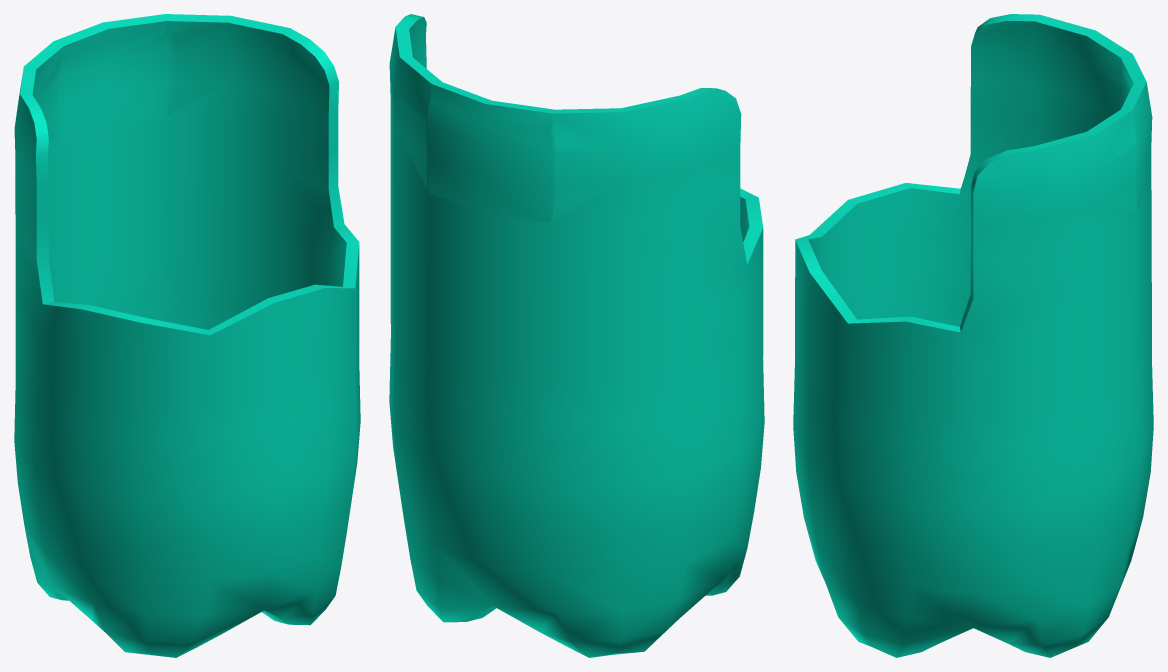
3 renders of one model, left to right at view 1: azimuth 30°, elevation 25°; view 2: azimuth 150°, elevation 25°; view 3: azimuth 270°, elevation 25°, orthographic. The views are drawn at different scales.
Parts seen in each view (by area): view 1: New Water Bottle 02 Mobile Stand, 02 Cut Area; view 2: New Water Bottle 02 Mobile Stand, 02 Cut Area; view 3: New Water Bottle 02 Mobile Stand, 02 Cut Area.
Part boxes in pixels (x1,y1,x2,y2): New Water Bottle 02 Mobile Stand: (14,14,360,657); 02 Cut Area: (55,33,175,140); New Water Bottle 02 Mobile Stand: (389,14,764,657); 02 Cut Area: (425,102,556,219); New Water Bottle 02 Mobile Stand: (793,14,1153,657); 02 Cut Area: (1119,70,1152,207).
Bounding box in the file's own units: 0.1372 × 0.2251 × 0.1378.
